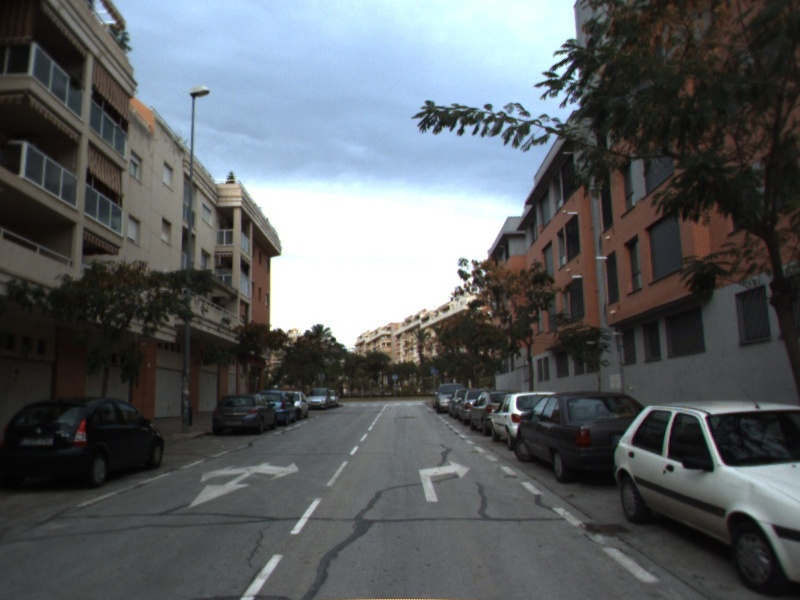RIGHT: (417, 458, 473, 503)
